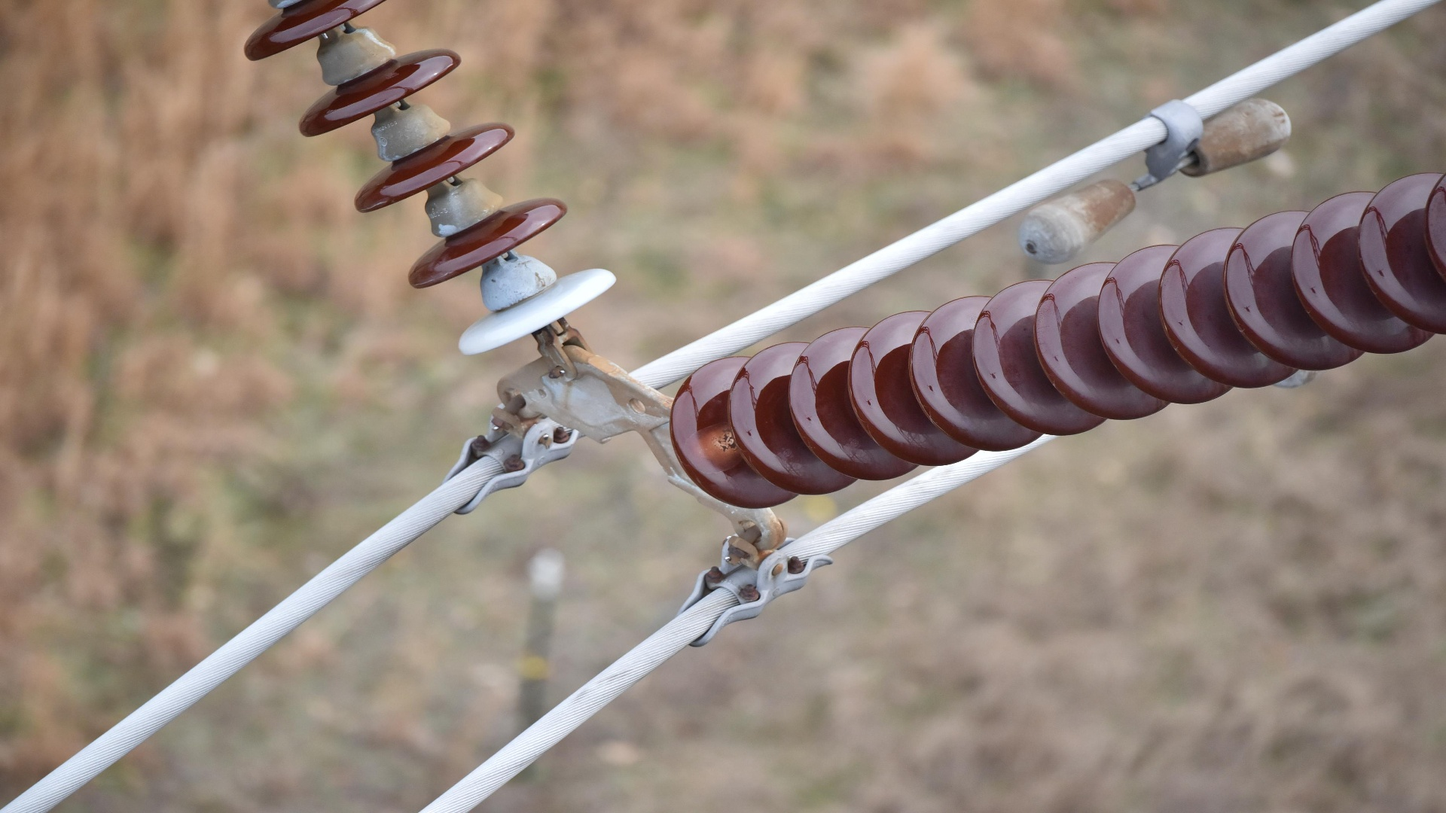damper: (1008, 85, 1298, 272)
